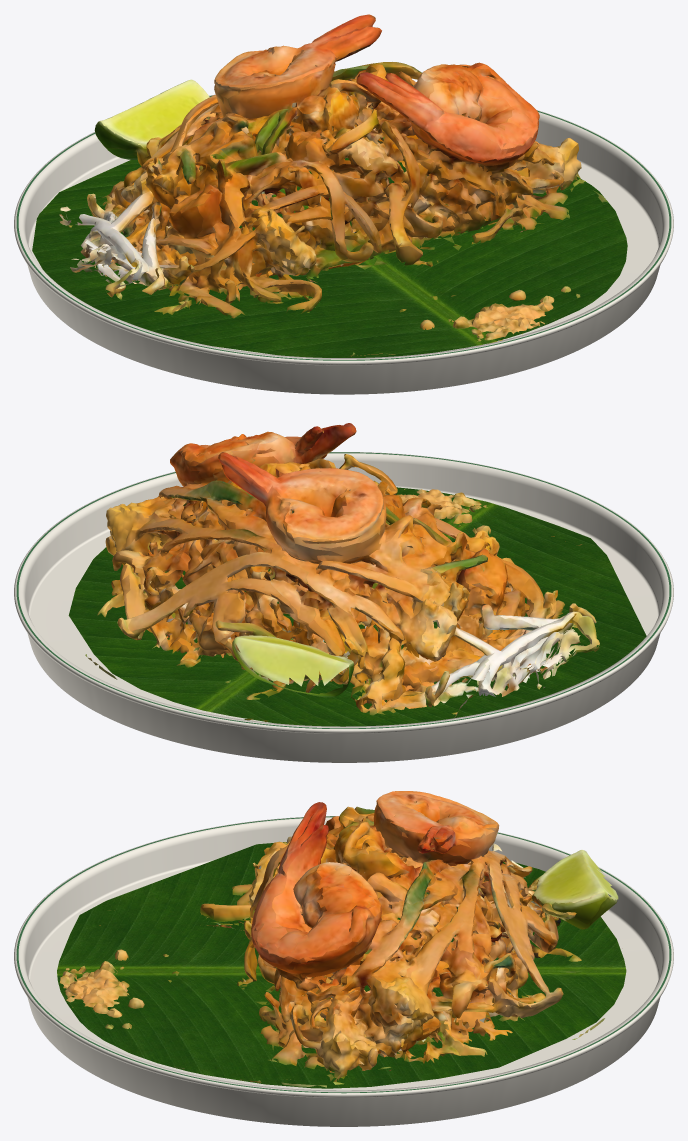
The model's file is pad-thai-1.glb.
3 renders of one model, top to bottom at view 1: azimuth 30°, elevation 25°; view 2: azimuth 150°, elevation 25°; view 3: azimuth 270°, elevation 25°, orthographic.
Parts seen in each view (by area): view 1: food/independent-stage-1, canonical/continuous-leaf-repair, support/regular-closed-plate; view 2: food/independent-stage-1, support/regular-closed-plate, canonical/continuous-leaf-repair; view 3: food/independent-stage-1, canonical/continuous-leaf-repair, support/regular-closed-plate.
Boxes of the visible parts, x1,y1,x2,y2 form: food/independent-stage-1: (59,14,607,356); canonical/continuous-leaf-repair: (32,158,627,357); support/regular-closed-plate: (14,94,673,394); food/independent-stage-1: (85,423,599,721); support/regular-closed-plate: (14,452,673,762); canonical/continuous-leaf-repair: (68,487,646,726); food/independent-stage-1: (60,791,618,1087); canonical/continuous-leaf-repair: (57,842,626,1088); support/regular-closed-plate: (14,816,673,1126).
Size of the model in its own units: 2.64 by 0.8738 by 2.64.
Materials: 4 (2 with a texture image).
